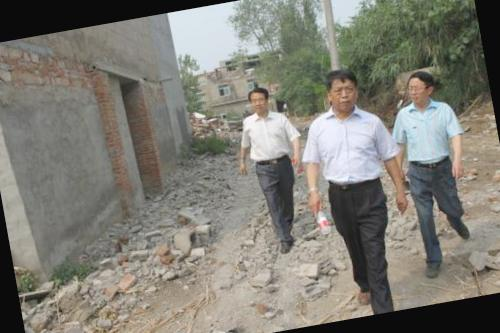no_helmet: (320, 62, 364, 117), (401, 66, 442, 108), (240, 80, 278, 123)
